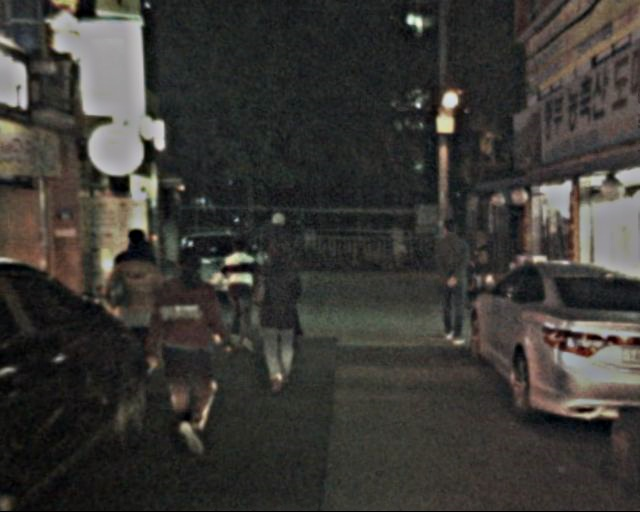person: (152, 244, 234, 446), (250, 244, 311, 389), (112, 229, 167, 365), (425, 218, 480, 350), (258, 212, 308, 330), (216, 237, 262, 348)
